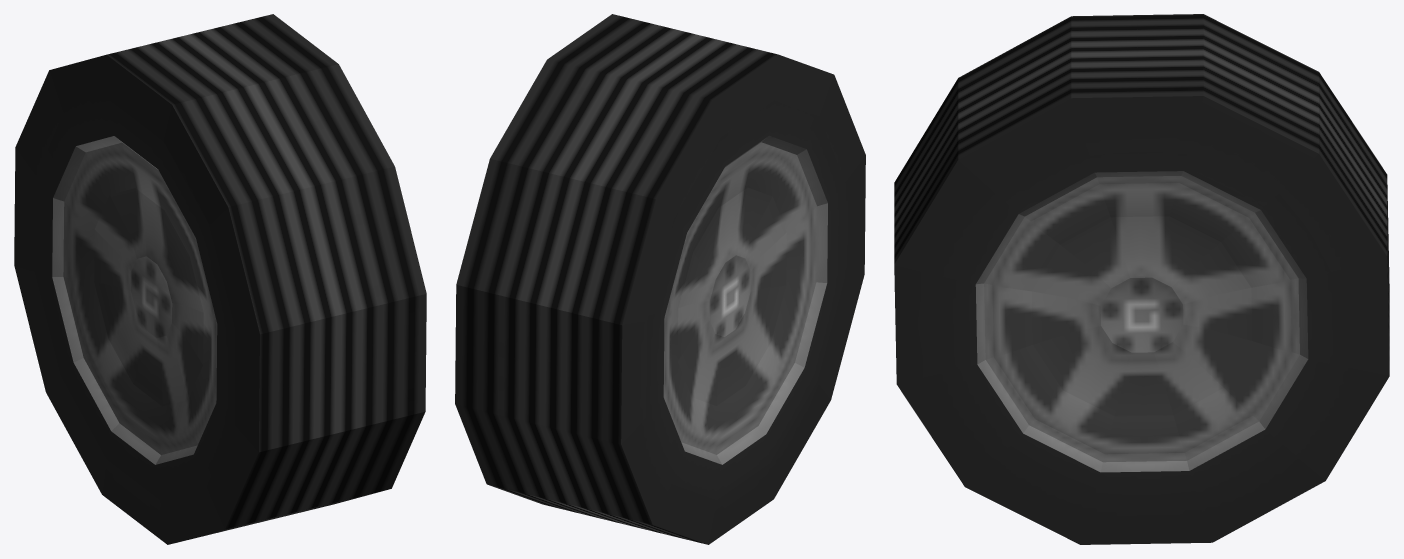
File: GavrilGrandMarshalSportWheel.fbx
3 renders of one model, left to right at view 1: azimuth 30°, elevation 25°; view 2: azimuth 150°, elevation 25°; view 3: azimuth 270°, elevation 25°, orthographic.
Visible parts, largest first — view 1: GavrilWheel3; view 2: GavrilWheel3; view 3: GavrilWheel3.
Boxes of the visible parts, bbox=[...] form: GavrilWheel3: bbox=[14, 14, 426, 544]; GavrilWheel3: bbox=[455, 14, 865, 544]; GavrilWheel3: bbox=[894, 14, 1389, 544].
Bounding box in the file's own units: 0.3827 × 0.9486 × 0.9486.
